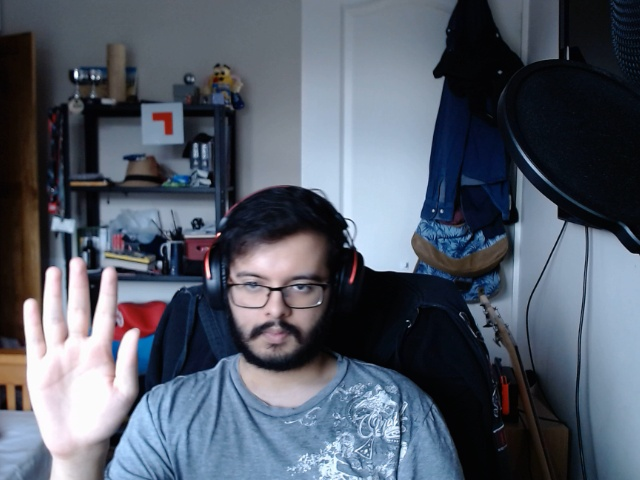Hello: (11, 248, 154, 471)
